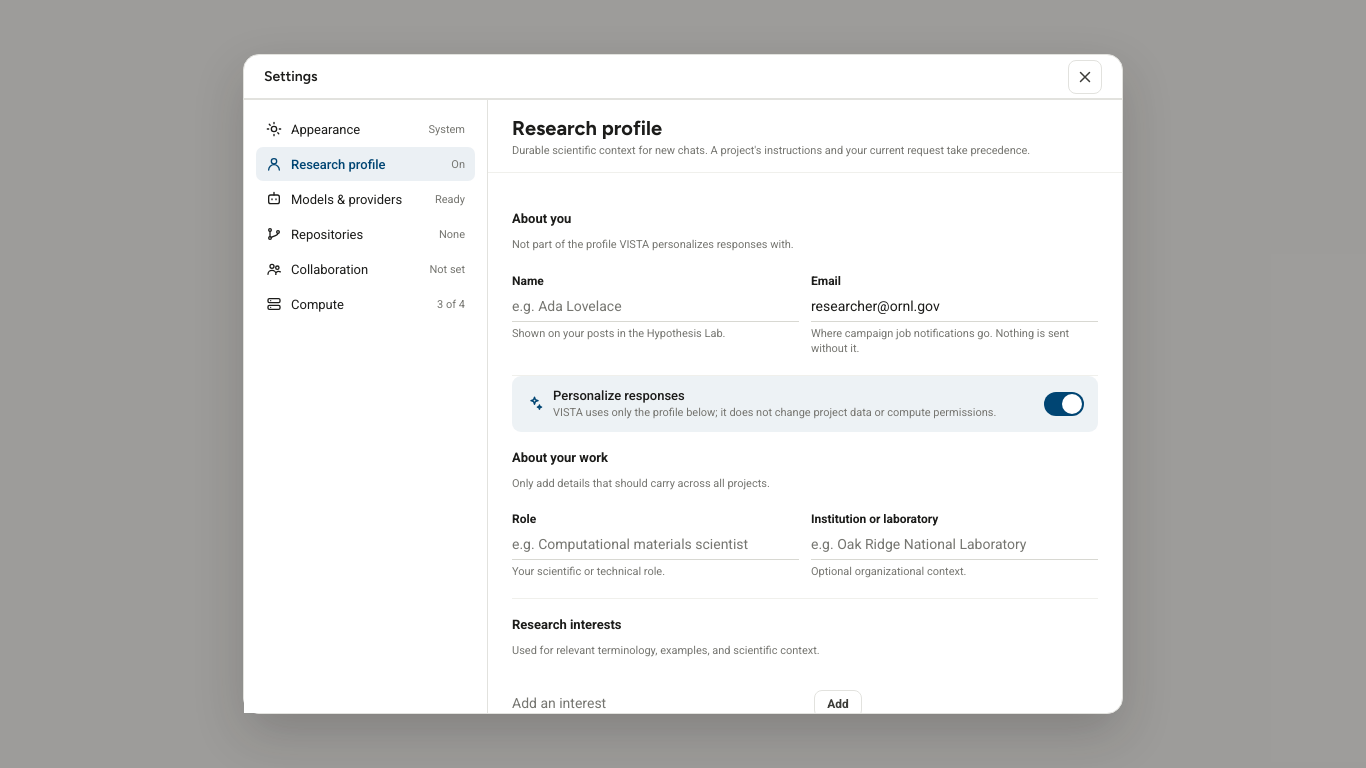
Test case: UserSettingsModal navigation › shows each resource's status in the Compute section
Step 1. Click the button "Compute 3 of 4" → (366, 304), box [256, 287, 475, 321]
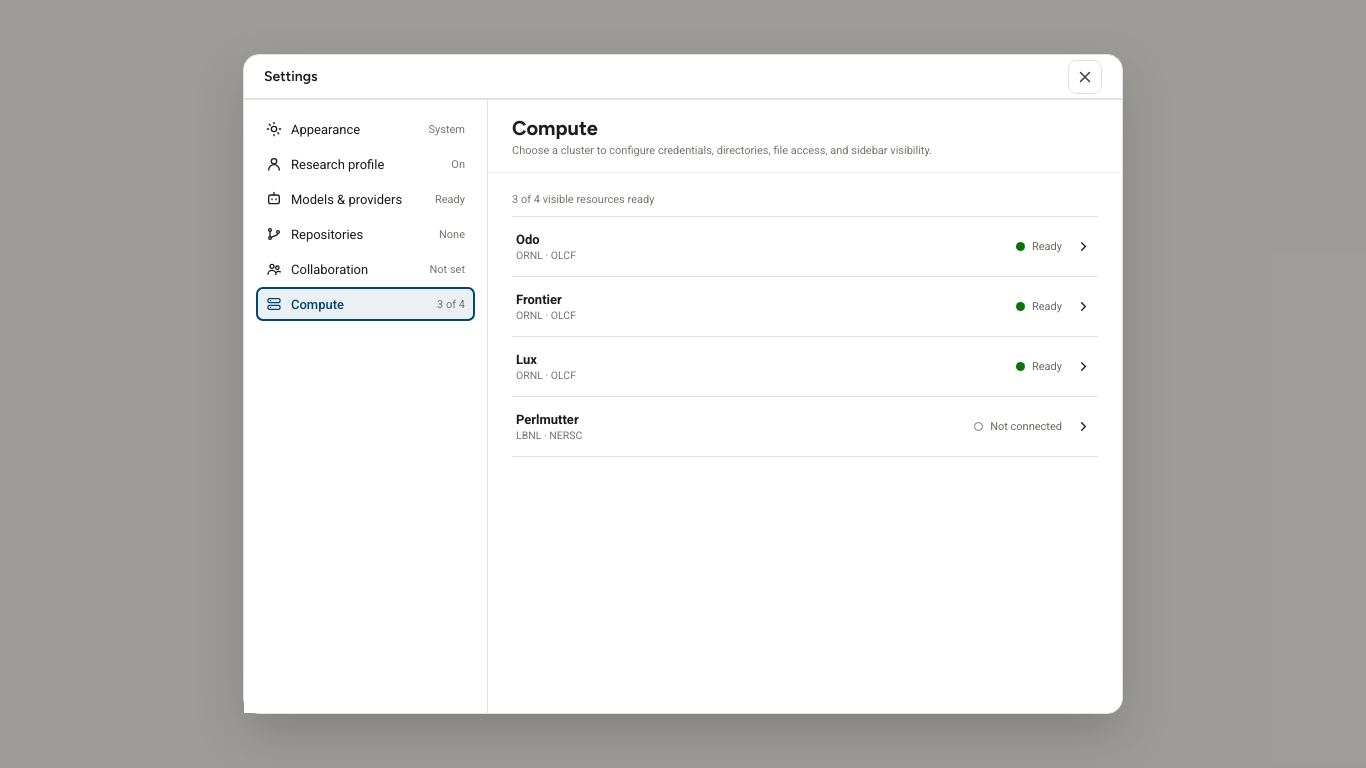
Expected: the button "Frontier ORNL · OLCF Ready" is shown, [512, 277, 1098, 337]
Expected: the button "Perlmutter LBNL · NERSC Not connected" is shown, [512, 397, 1098, 457]
